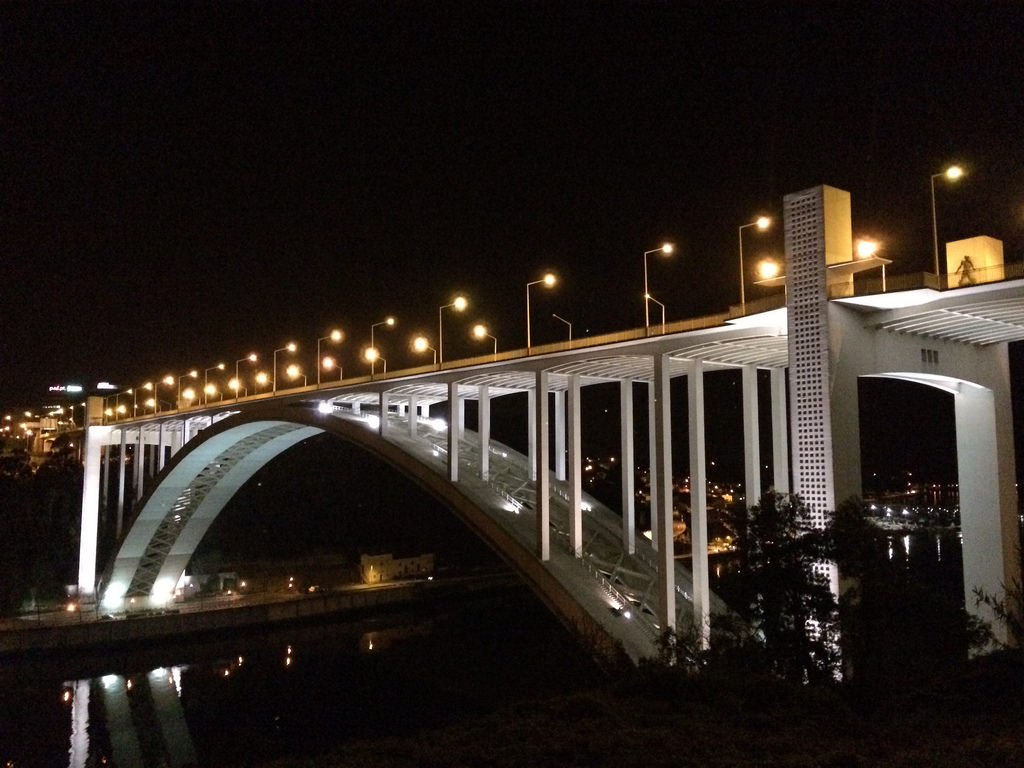arrabida: (20, 181, 1023, 676)
